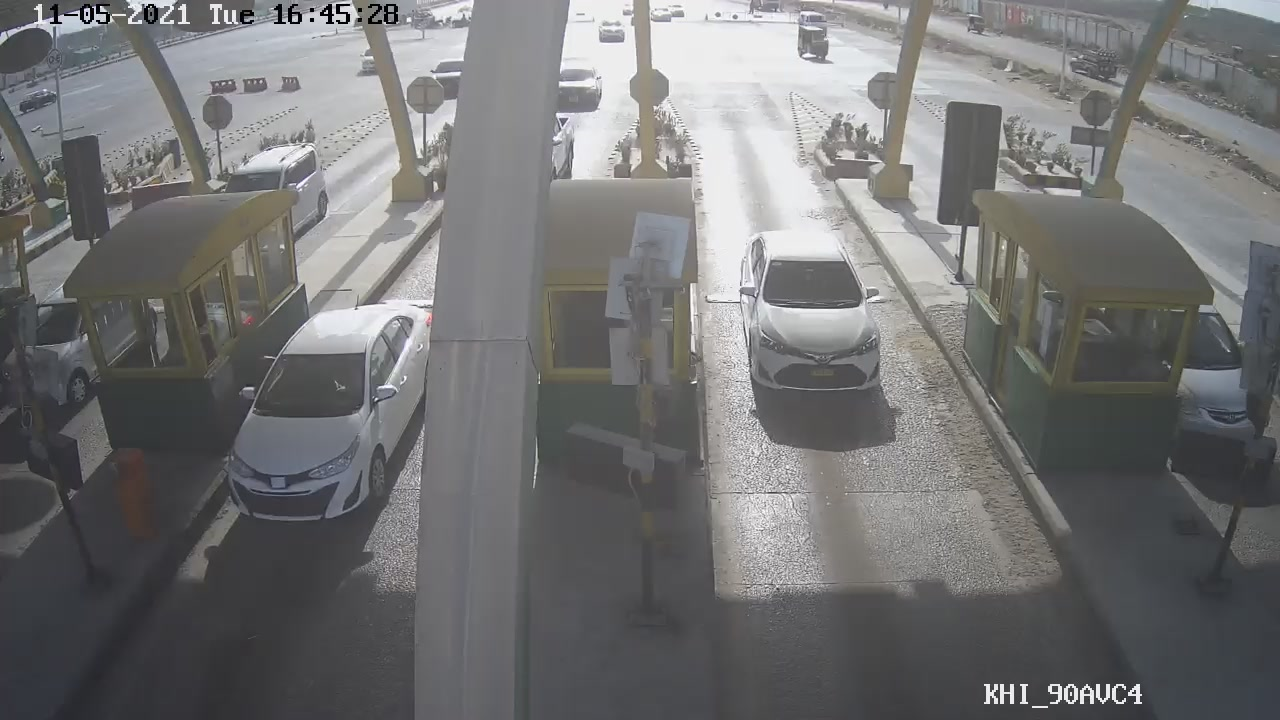F1: (728, 229, 892, 396)
